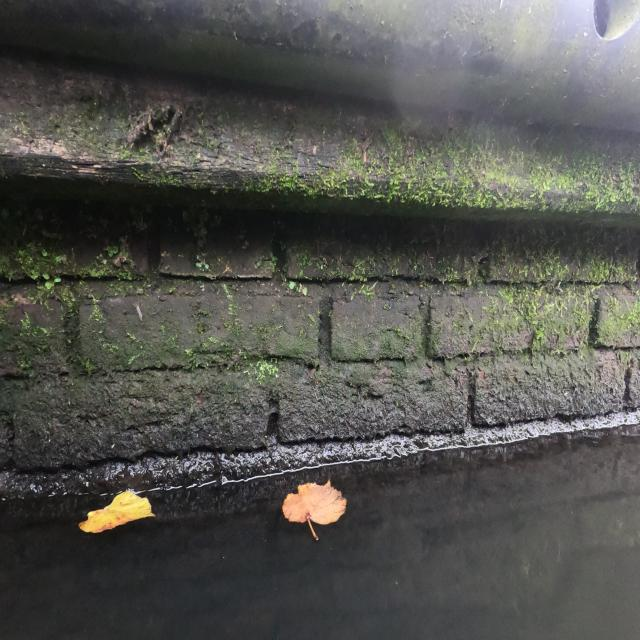wall: (2, 0, 638, 454)
water: (6, 428, 638, 638)
